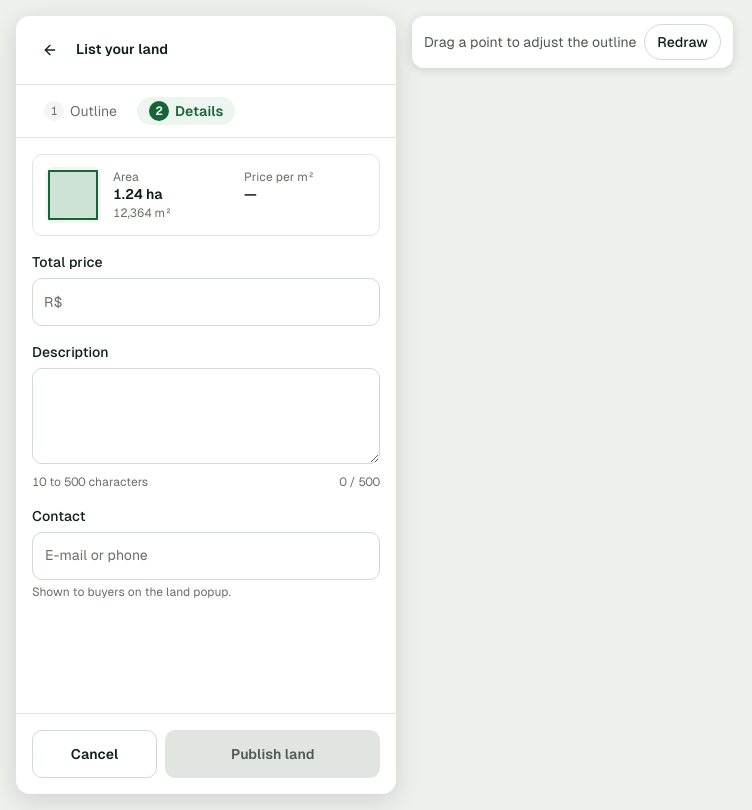
Test: NewLandSession › maps backend 400 field violations, including geometry
Type "185000" into the field labelled "Total price". click: (206, 302)
box: [32,278,380,326]
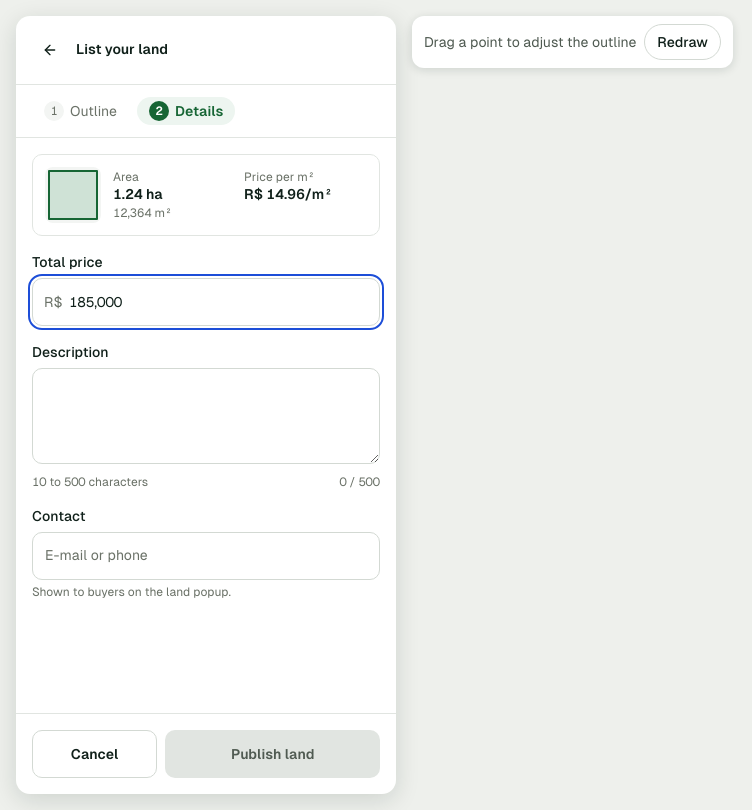
Type "Flat land close to the river, ready to build." into the text box labelled "Description". click: (206, 416)
box: [32,368,380,464]
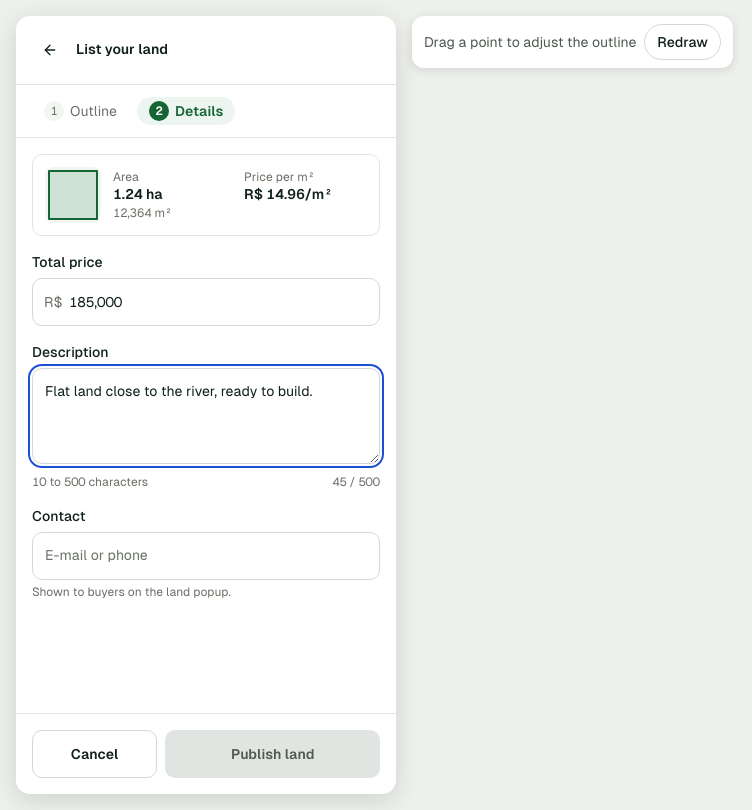
Type "owner@example.com" into the field labelled "Contact". click: (206, 556)
box: [32,532,380,580]
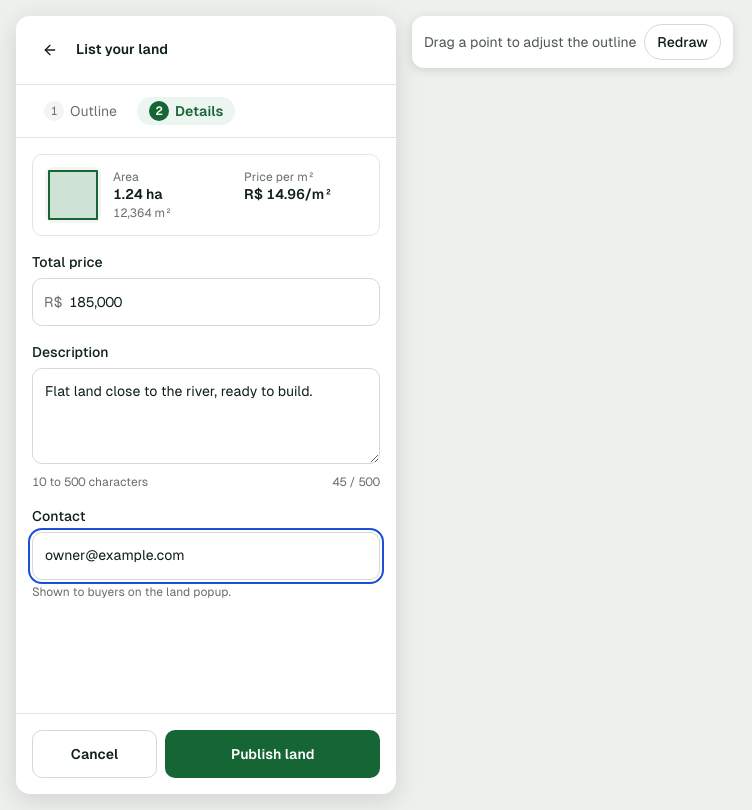
Result: the button "Publish land" is enabled
Click the button "Publish land". click: (273, 754)
box: [165,730,380,778]
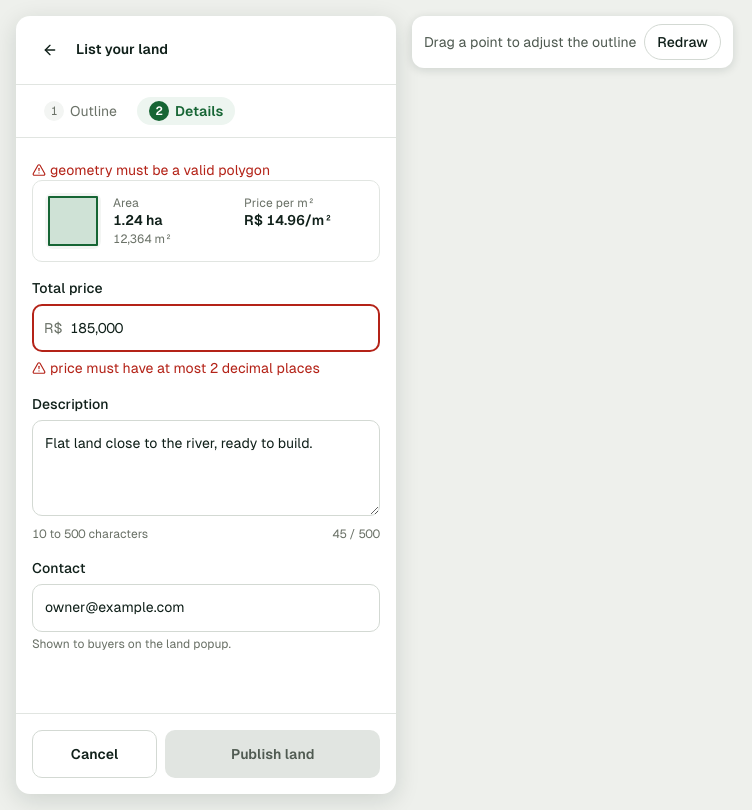
Result: the text "geometry must be a valid polygon" is shown at [32,162,270,178]
Result: the text "price must have at most 2 decimal places" is shown at [32,360,320,376]
